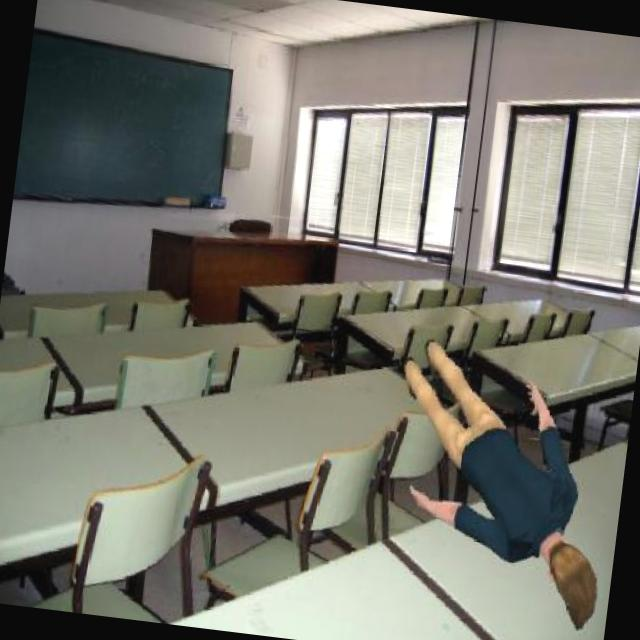Person: (366, 328, 630, 633)
